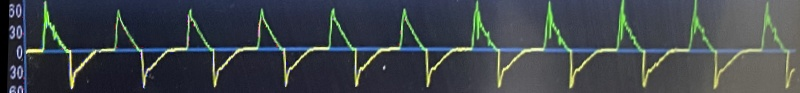hydrop_flow: (464, 0, 800, 93)
normal_flow: (94, 1, 455, 92)
